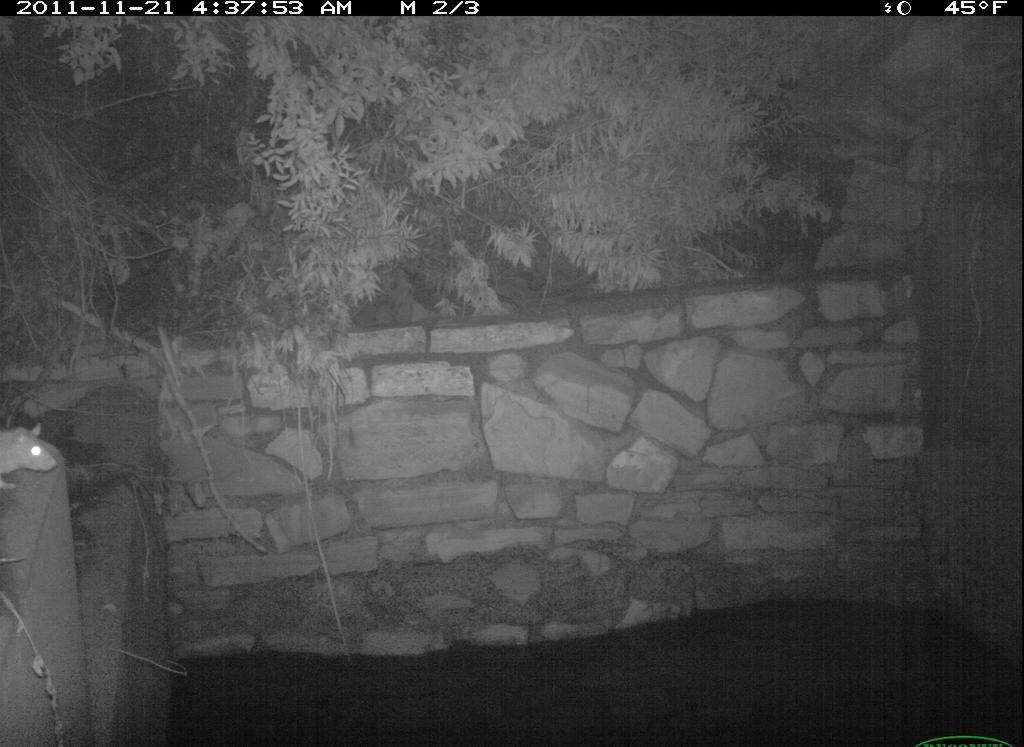rodent: (1, 412, 65, 502)
